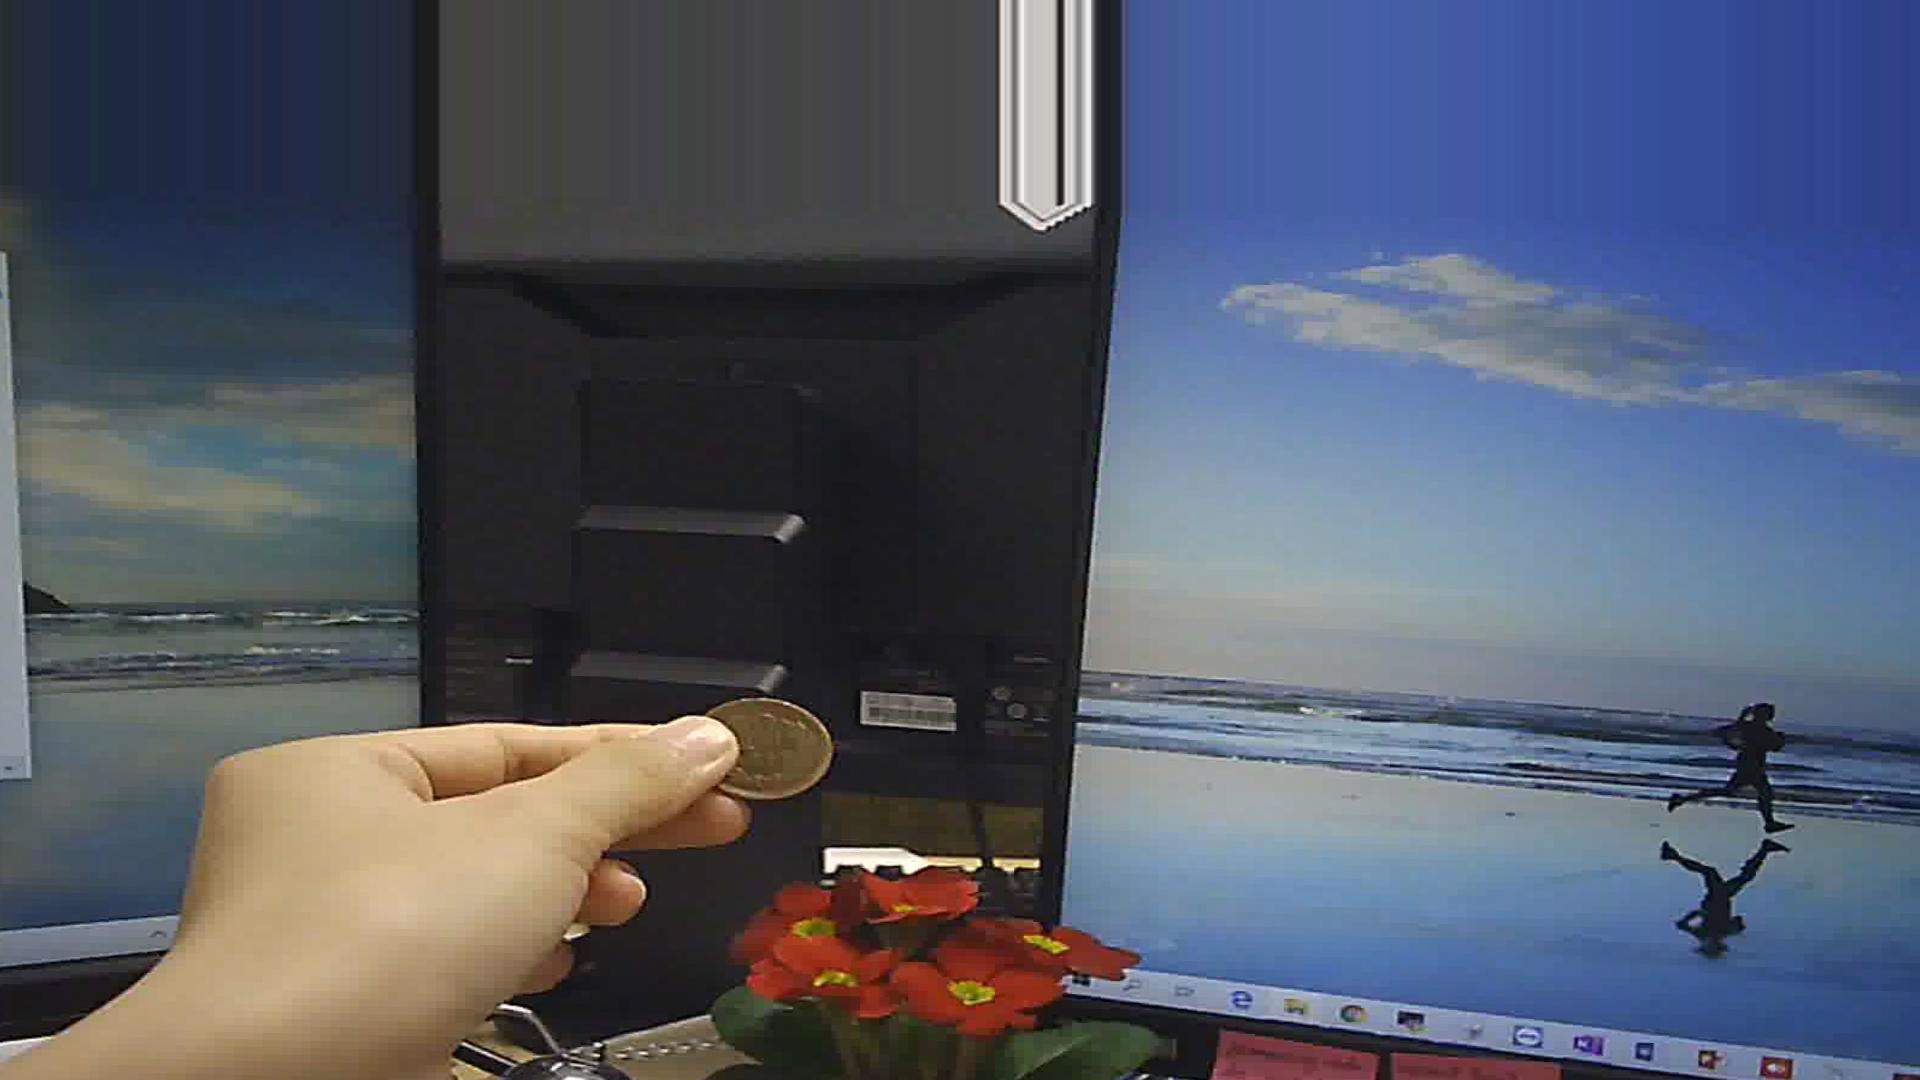10 Yen: (679, 680, 832, 798)
